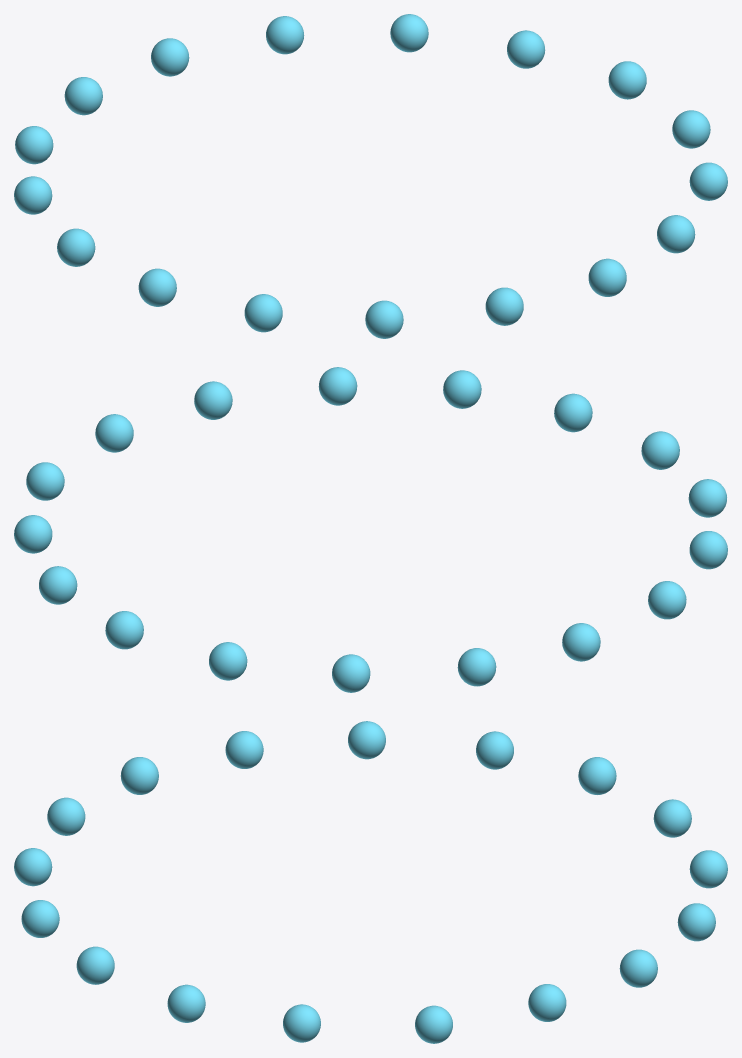
The picture shows the model from 3 angles, top to bottom: view 1: azimuth 30°, elevation 25°; view 2: azimuth 150°, elevation 25°; view 3: azimuth 270°, elevation 25°; orthographic projection.
Visible parts, largest first — view 1: Sphere049; view 2: Sphere049; view 3: Sphere049.
Boxes of the visible parts, bbox=[...] form: Sphere049: bbox=[14, 14, 727, 338]; Sphere049: bbox=[14, 367, 727, 692]; Sphere049: bbox=[14, 721, 727, 1043].
Bounding box in the file's own units: 153 × 8.22 × 153.
